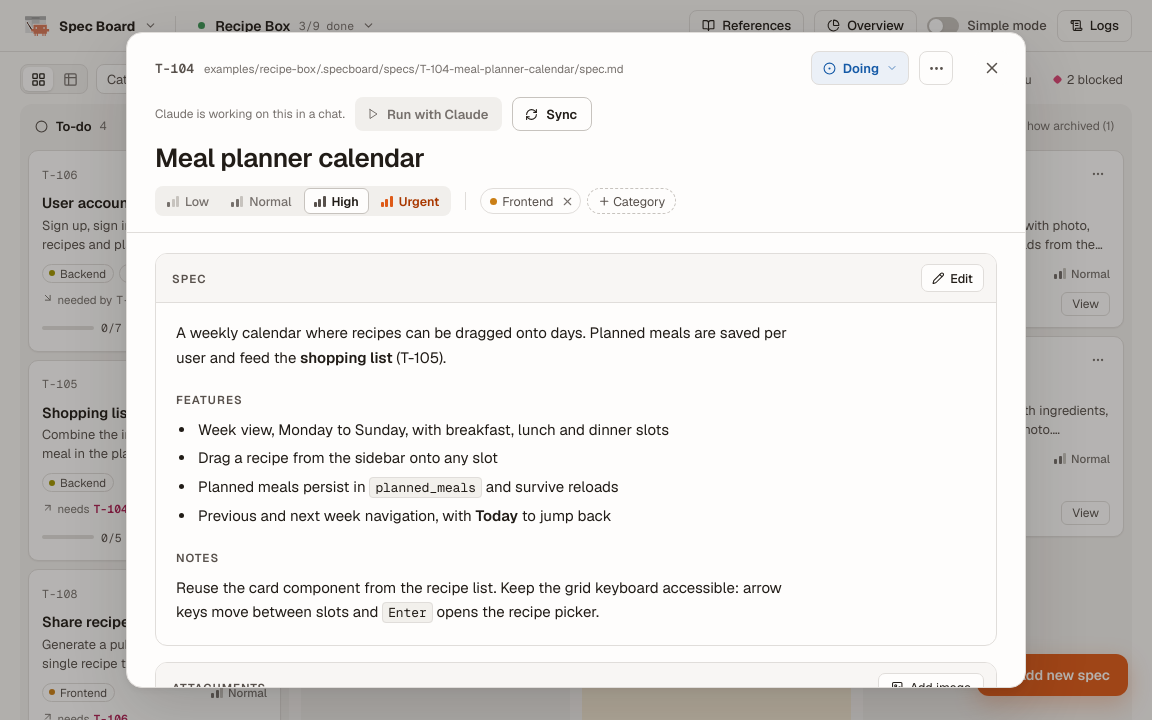
Test: Sync one card from its detail › the Sync button starts a scoped plan, titled with the spec
The image size is (1152, 720).
Click the button "Sync": (552, 114) x1=512 y1=97 x2=592 y2=131
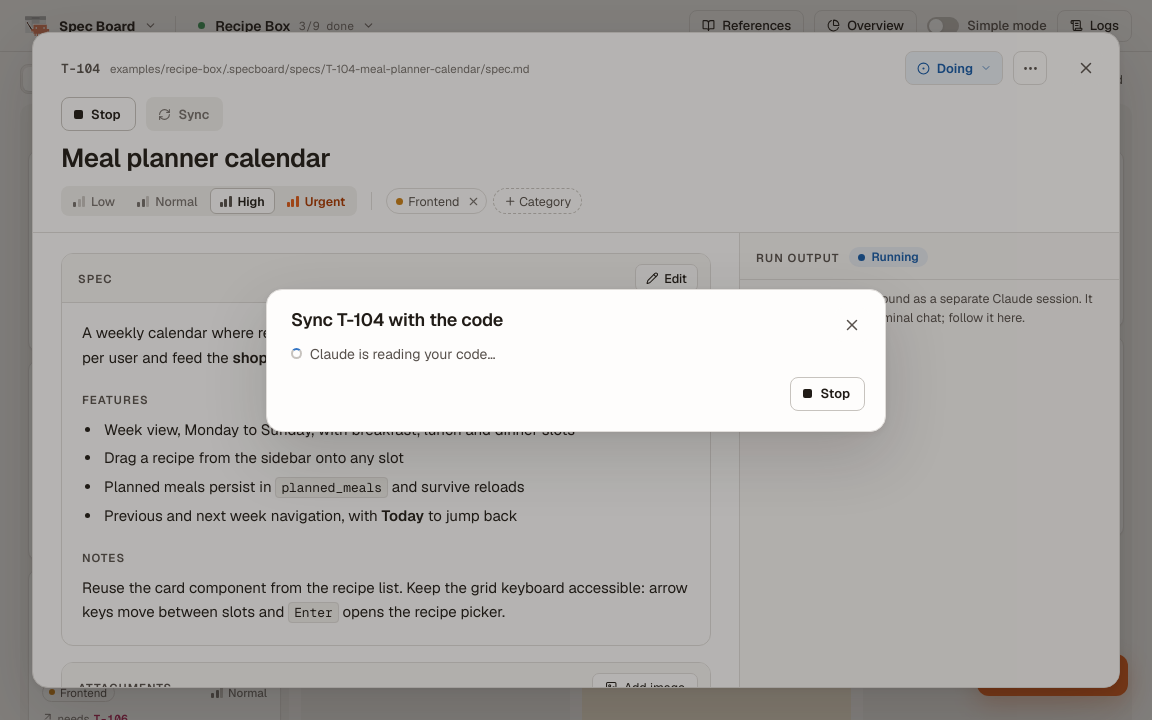
Result: the heading "Sync T-104 with the code" is shown at x1=291 y1=308 x2=503 y2=330
